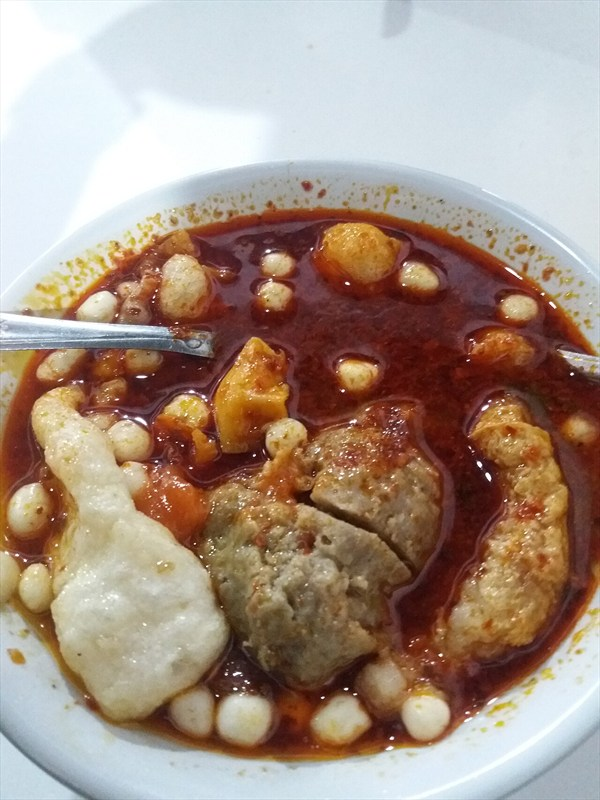Bakso: (39, 205, 572, 741)
